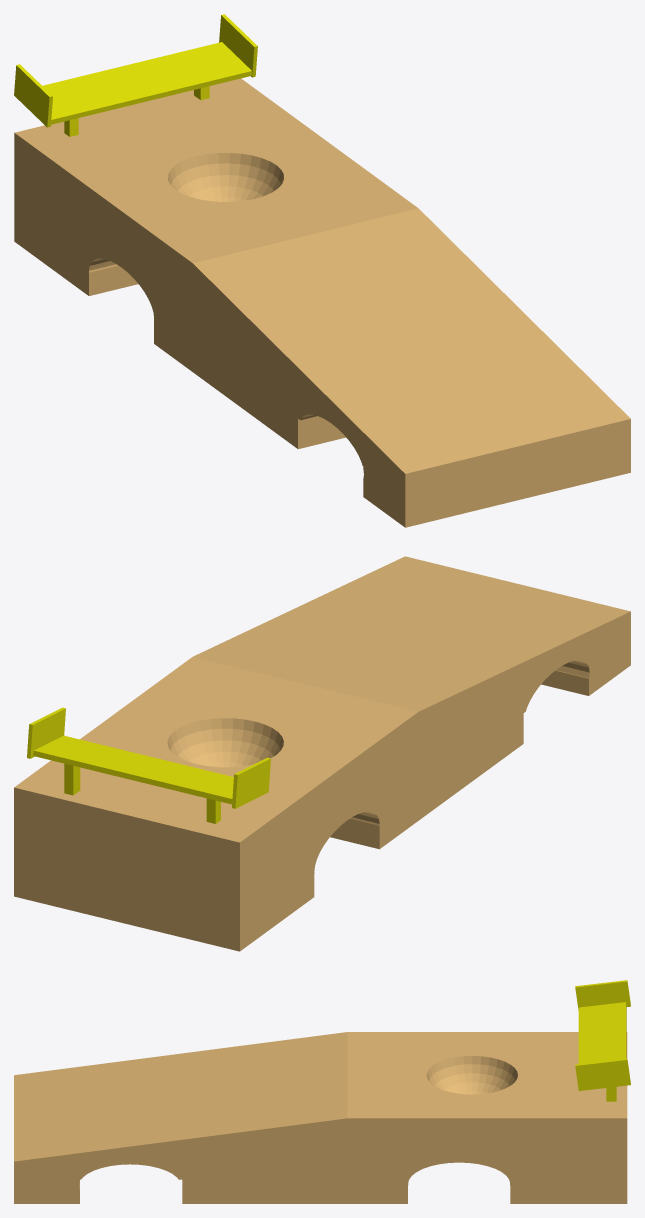
Rendered from racecar-transformed.glb.
3 renders of one model, top to bottom at view 1: azimuth 30°, elevation 25°; view 2: azimuth 150°, elevation 25°; view 3: azimuth 270°, elevation 25°, orthographic. The views are drawn at different scales.
Visible parts, largest first — view 1: Cube, Cube.003, Cube.004, Cube.007; view 2: Cube, Cube.003, Cube.004, Cube.007; view 3: Cube, Cube.003, Cube.007, Cube.004.
Part boxes in pixels (<box>): Cube: <box>14,78,630,527</box>; Cube.003: <box>42,42,251,124</box>; Cube.004: <box>14,64,52,127</box>; Cube.007: <box>219,14,257,77</box>; Cube: <box>14,556,630,951</box>; Cube.003: <box>33,735,233,804</box>; Cube.004: <box>232,757,270,808</box>; Cube.007: <box>27,707,65,758</box>; Cube: <box>14,1032,627,1203</box>; Cube.003: <box>578,1002,626,1063</box>; Cube.007: <box>575,1058,630,1090</box>; Cube.004: <box>575,980,630,1010</box>.
Size of the model in its own units: 2 by 1.49 by 6.04.
Materials: 2 (1 with a texture image).
